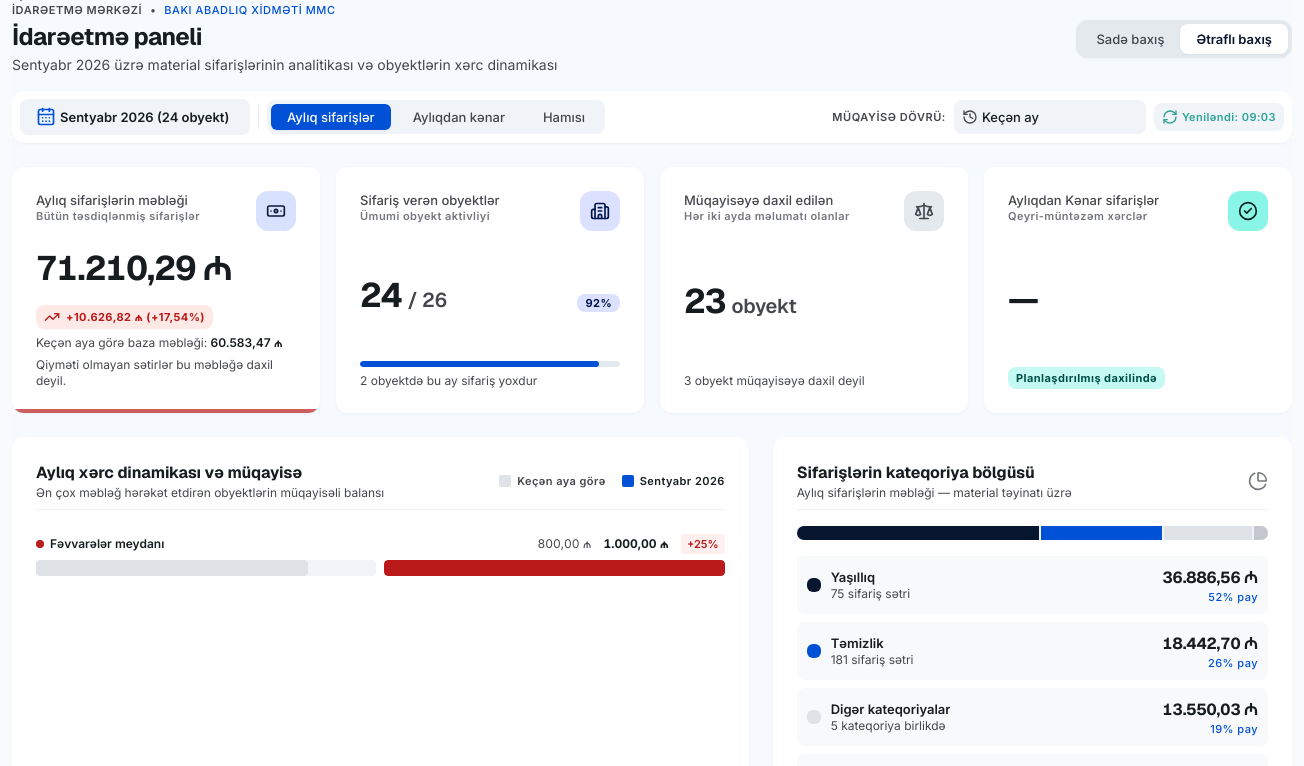
Test: the product behind the main cause › is asked for again on a new basis, and the card shows the new product and share
Select "Son 3 ayın ortalaması" in the dropdown named "Müqayisə" next to "Müqayisə dövrü:" at [1060, 117], box [982,104,1138,130]
(page scrolled)
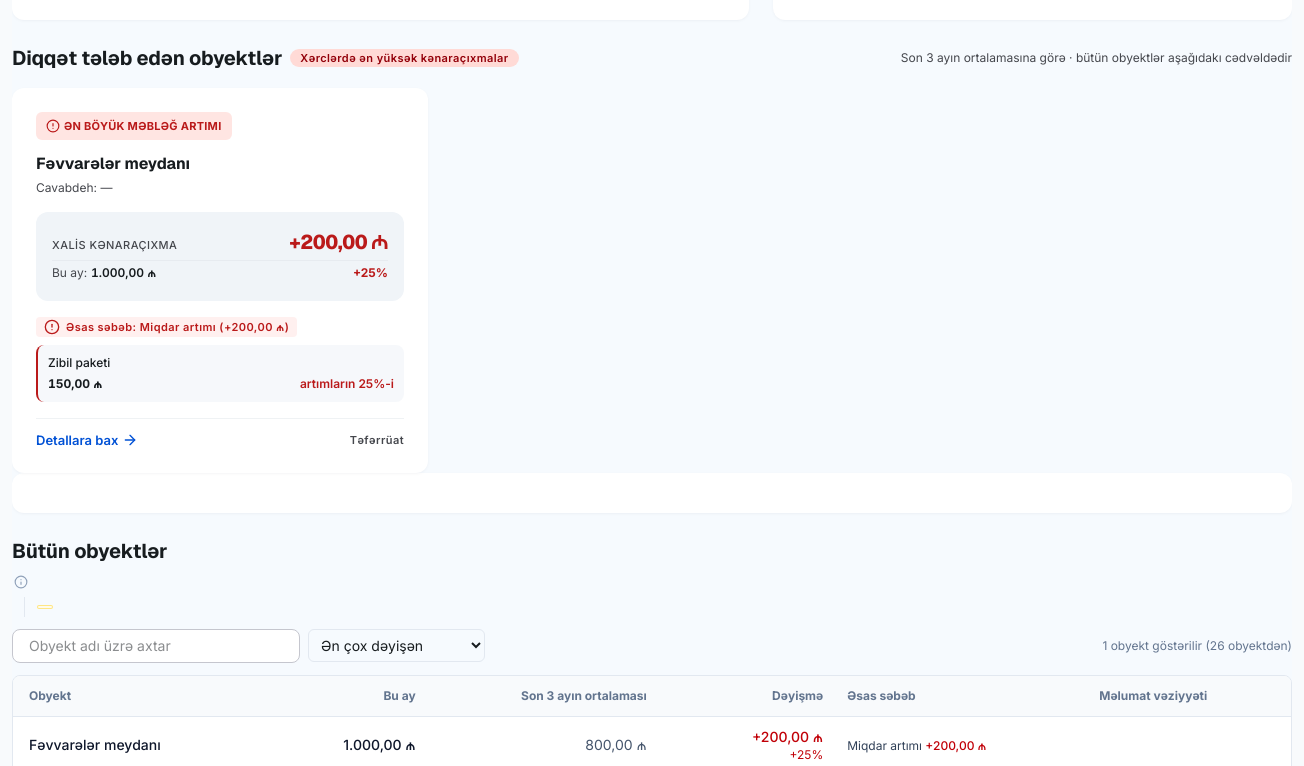
Now the text "Zibil paketi" is shown, box [48,355,110,370]
Now the text "artımların 25%-i" is shown, box [300,376,394,392]
